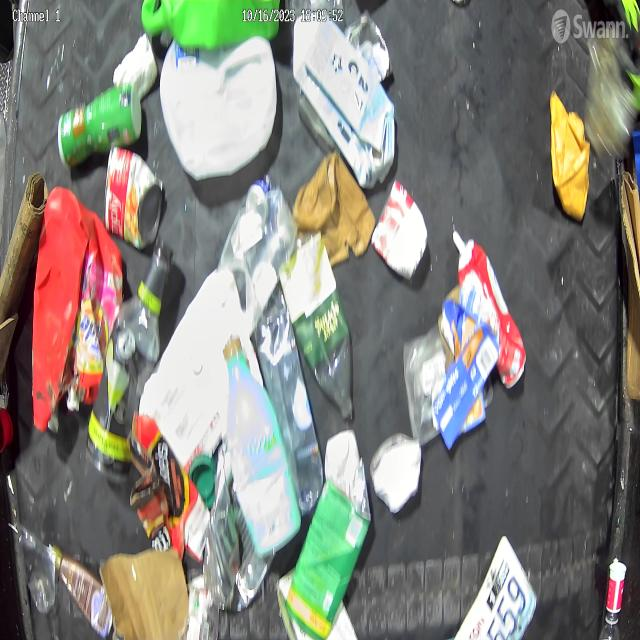can: (451, 226, 528, 388), (204, 444, 274, 614), (103, 144, 164, 251), (372, 180, 429, 282), (245, 173, 274, 223)
milk_jug: (293, 13, 396, 189), (160, 36, 277, 180)
non_white_jug: (32, 187, 124, 433)
